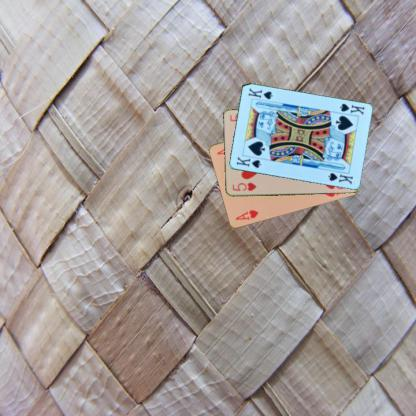5h: (230, 180, 257, 192)
Ah: (233, 208, 259, 222)
Ks: (233, 154, 262, 170), (337, 101, 365, 116)
